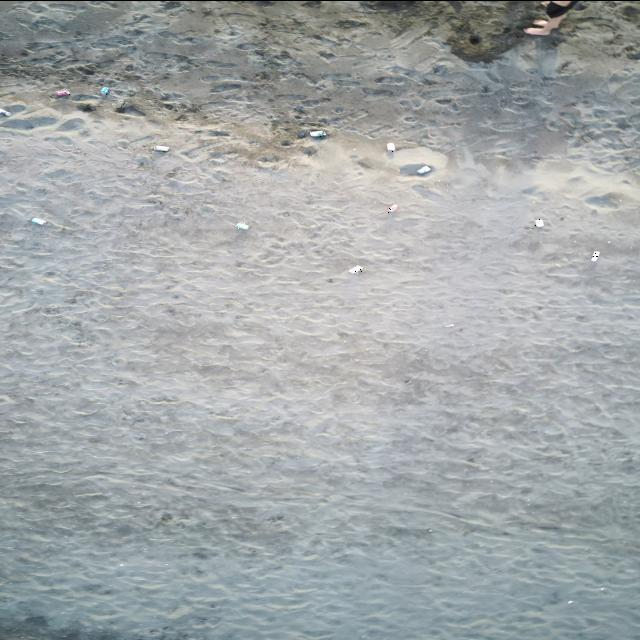Garbage: (115, 100, 143, 114), (301, 144, 316, 156), (416, 164, 431, 173), (76, 103, 95, 110), (308, 129, 326, 136), (55, 88, 70, 96), (235, 221, 247, 230), (296, 129, 307, 138), (350, 264, 362, 272), (32, 217, 44, 224), (387, 203, 396, 212), (100, 85, 108, 95), (533, 219, 543, 227), (154, 145, 167, 151), (0, 108, 9, 116), (591, 252, 599, 260), (387, 143, 394, 151), (444, 323, 453, 327), (567, 600, 573, 604)
